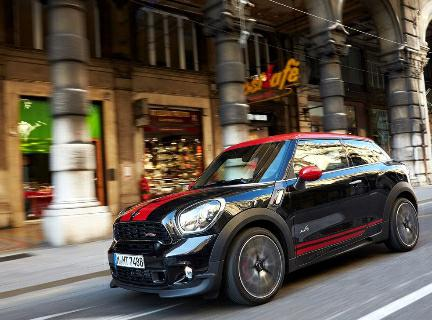MINI-JCWPACEMAN: (121, 132, 417, 305)
